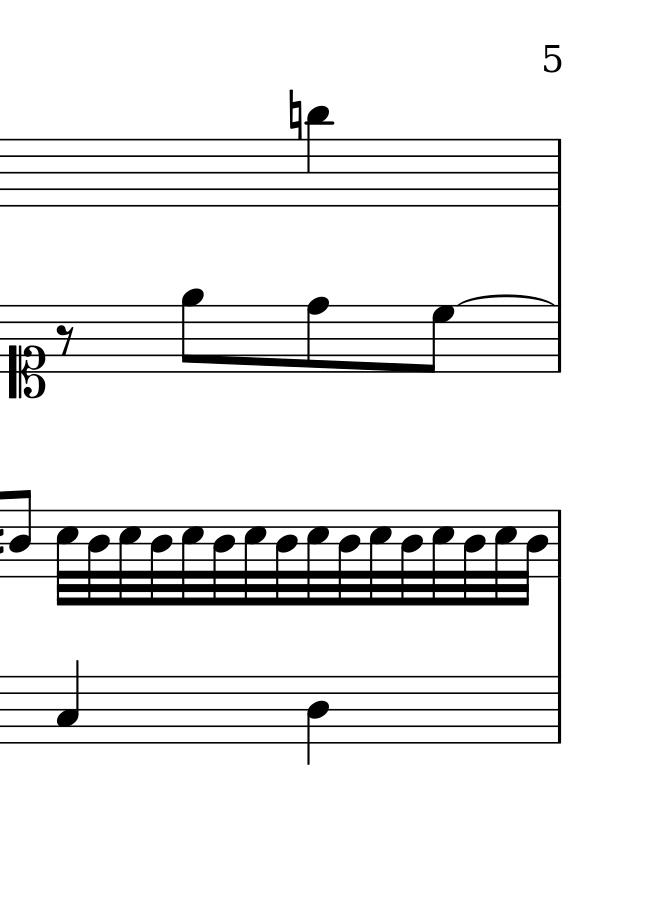32_4: (521, 507, 550, 610), (273, 506, 299, 610), (148, 507, 174, 609), (461, 507, 487, 609), (335, 508, 361, 609), (399, 506, 424, 610), (86, 506, 110, 607), (211, 508, 234, 608)
32_5: (54, 507, 79, 606), (118, 507, 142, 607), (180, 508, 204, 608), (242, 507, 266, 607), (306, 507, 330, 607), (368, 506, 392, 606), (430, 507, 454, 607), (494, 506, 518, 606)
4_3: (55, 661, 81, 743)
4_4: (306, 675, 331, 765)
5: (541, 41, 562, 76)
8_11: (304, 101, 331, 209)
8_4: (8, 488, 33, 579)
8_7: (421, 302, 453, 374)
8_8: (304, 295, 329, 375)
8_9: (180, 286, 203, 374)
Natural: (288, 89, 303, 143)
Rests8: (55, 323, 76, 357)
Single_barline: (551, 677, 567, 742), (551, 140, 567, 204), (552, 510, 567, 578)
Soprano_Cclef: (6, 301, 47, 399)
